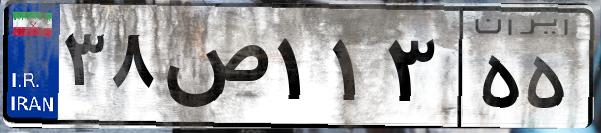1: (270, 28, 330, 110), (330, 28, 385, 110)
3: (385, 28, 445, 110), (57, 26, 110, 100)
5: (475, 38, 525, 113), (525, 38, 570, 115)
8: (110, 28, 158, 98)
ص: (158, 20, 270, 120)
